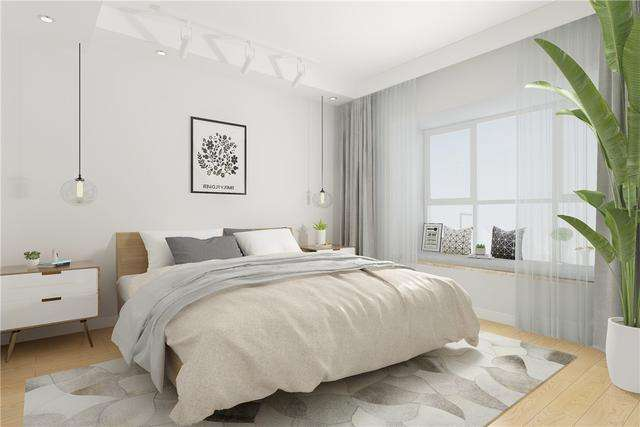床: (103, 255, 478, 407)
枕头: (129, 226, 309, 268), (440, 219, 529, 263)
灯: (63, 43, 88, 212), (310, 96, 328, 214), (35, 15, 52, 26), (150, 49, 164, 59), (326, 96, 337, 104)
